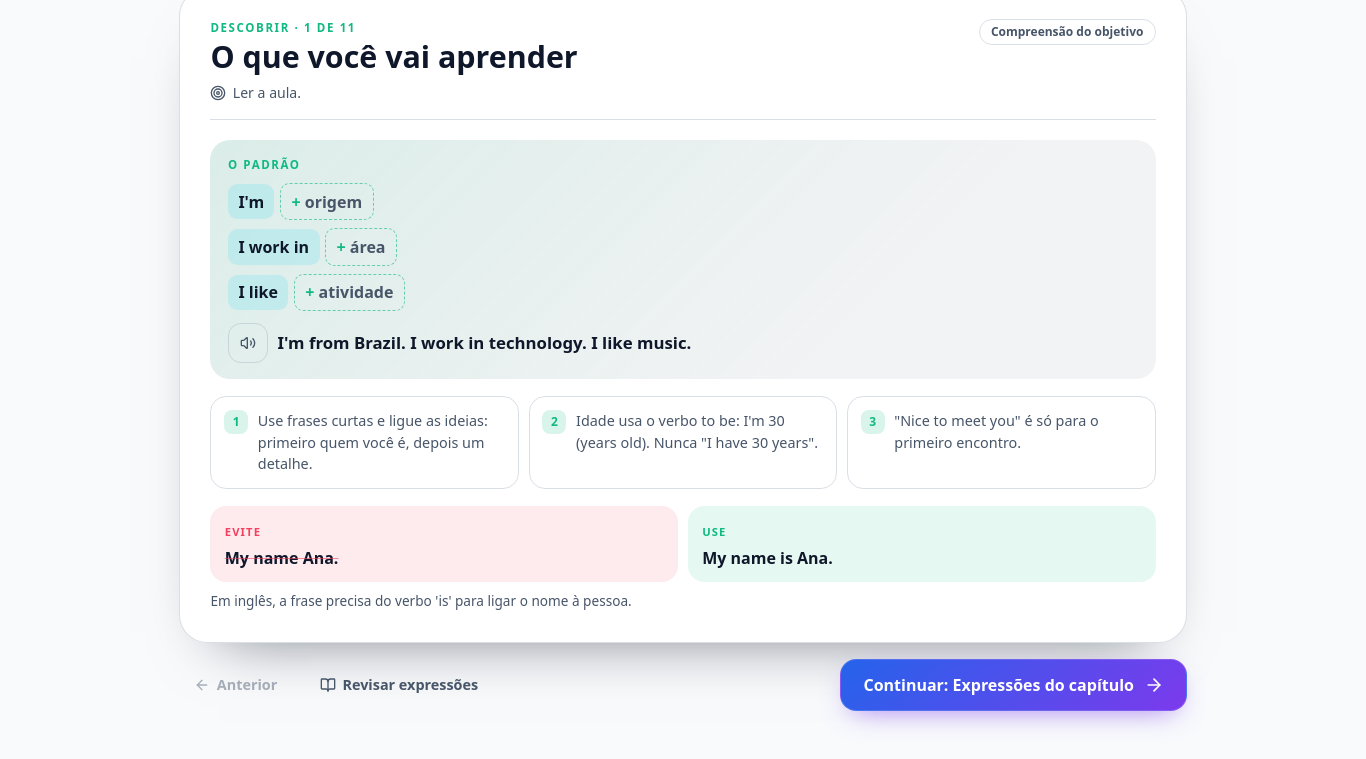
Test: Journey 2.0 navigation › shows one activity at a time and marks reading only when the student moves on
The width and height of the screenshot is (1366, 759).
(page scrolled)
Expected: the heading "O que você vai aprender" is shown, [210,40,578,75]
Click the button "Continuar: Expressões do capítulo".
click(1014, 685)  # box [840,659,1187,711]
(page scrolled)
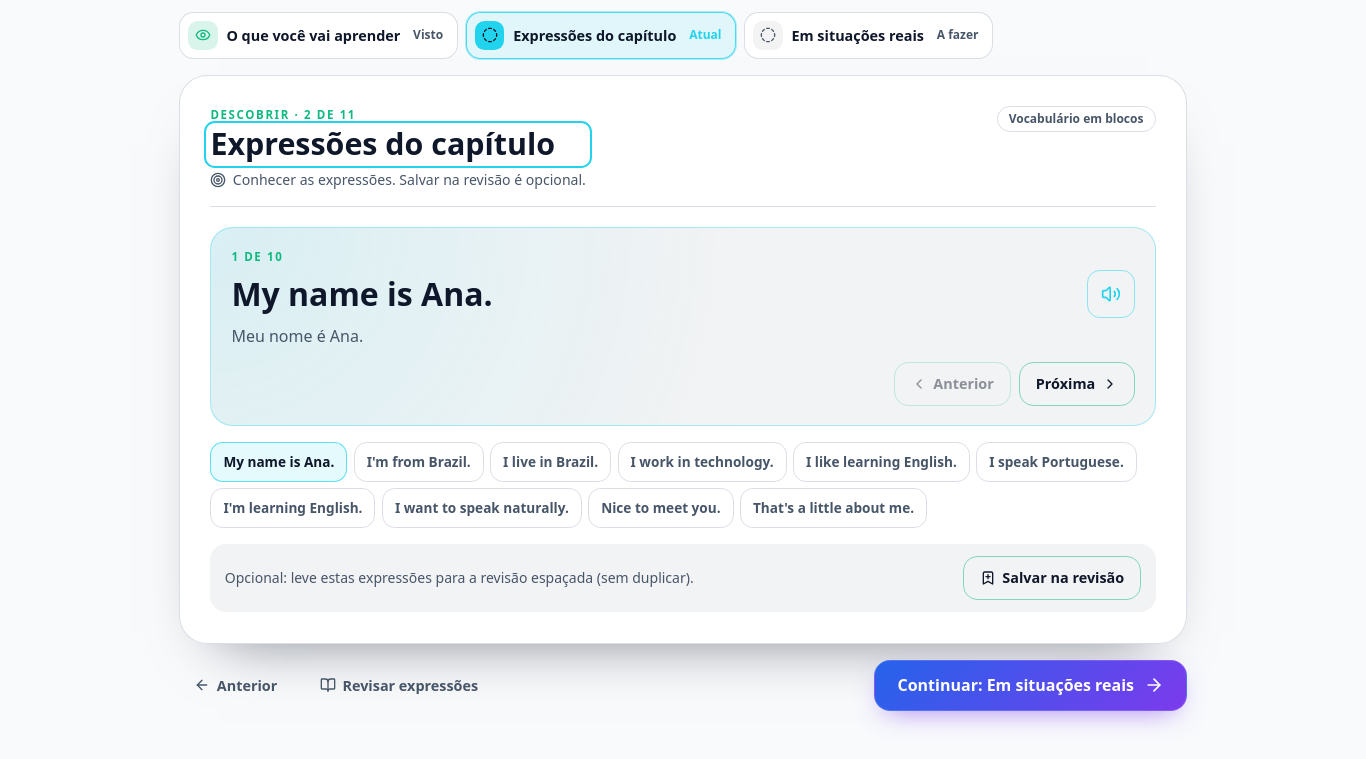
Expected: the heading "Expressões do capítulo" is shown, [210,127,586,162]
